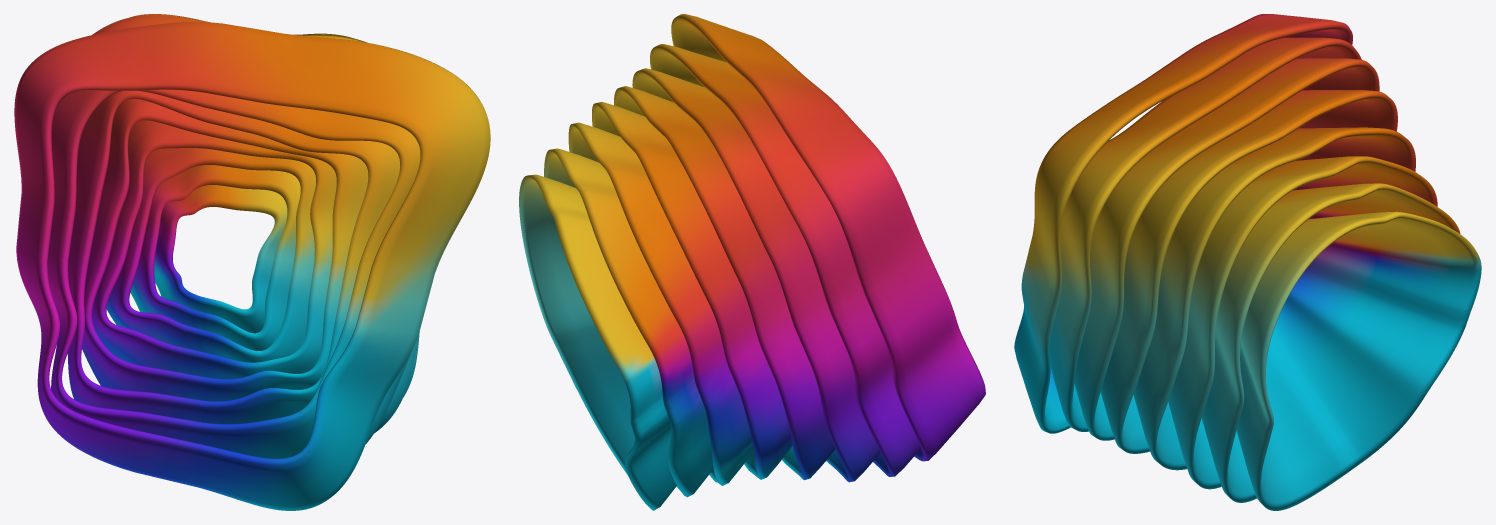
File: rainbow-exact.glb
3 renders of one model, left to right at view 1: azimuth 30°, elevation 25°; view 2: azimuth 150°, elevation 25°; view 3: azimuth 270°, elevation 25°, orthographic. The views are drawn at different scales.
Visible parts, largest first — view 1: RainbowLayers; view 2: RainbowLayers; view 3: RainbowLayers.
Boxes of the visible parts, x1=… form: RainbowLayers: x1=14, y1=14, x2=490, y2=510; RainbowLayers: x1=519, y1=14, x2=985, y2=510; RainbowLayers: x1=1014, y1=14, x2=1481, y2=510.
Size of the model in its own units: 3.18 by 3.07 by 3.08.
